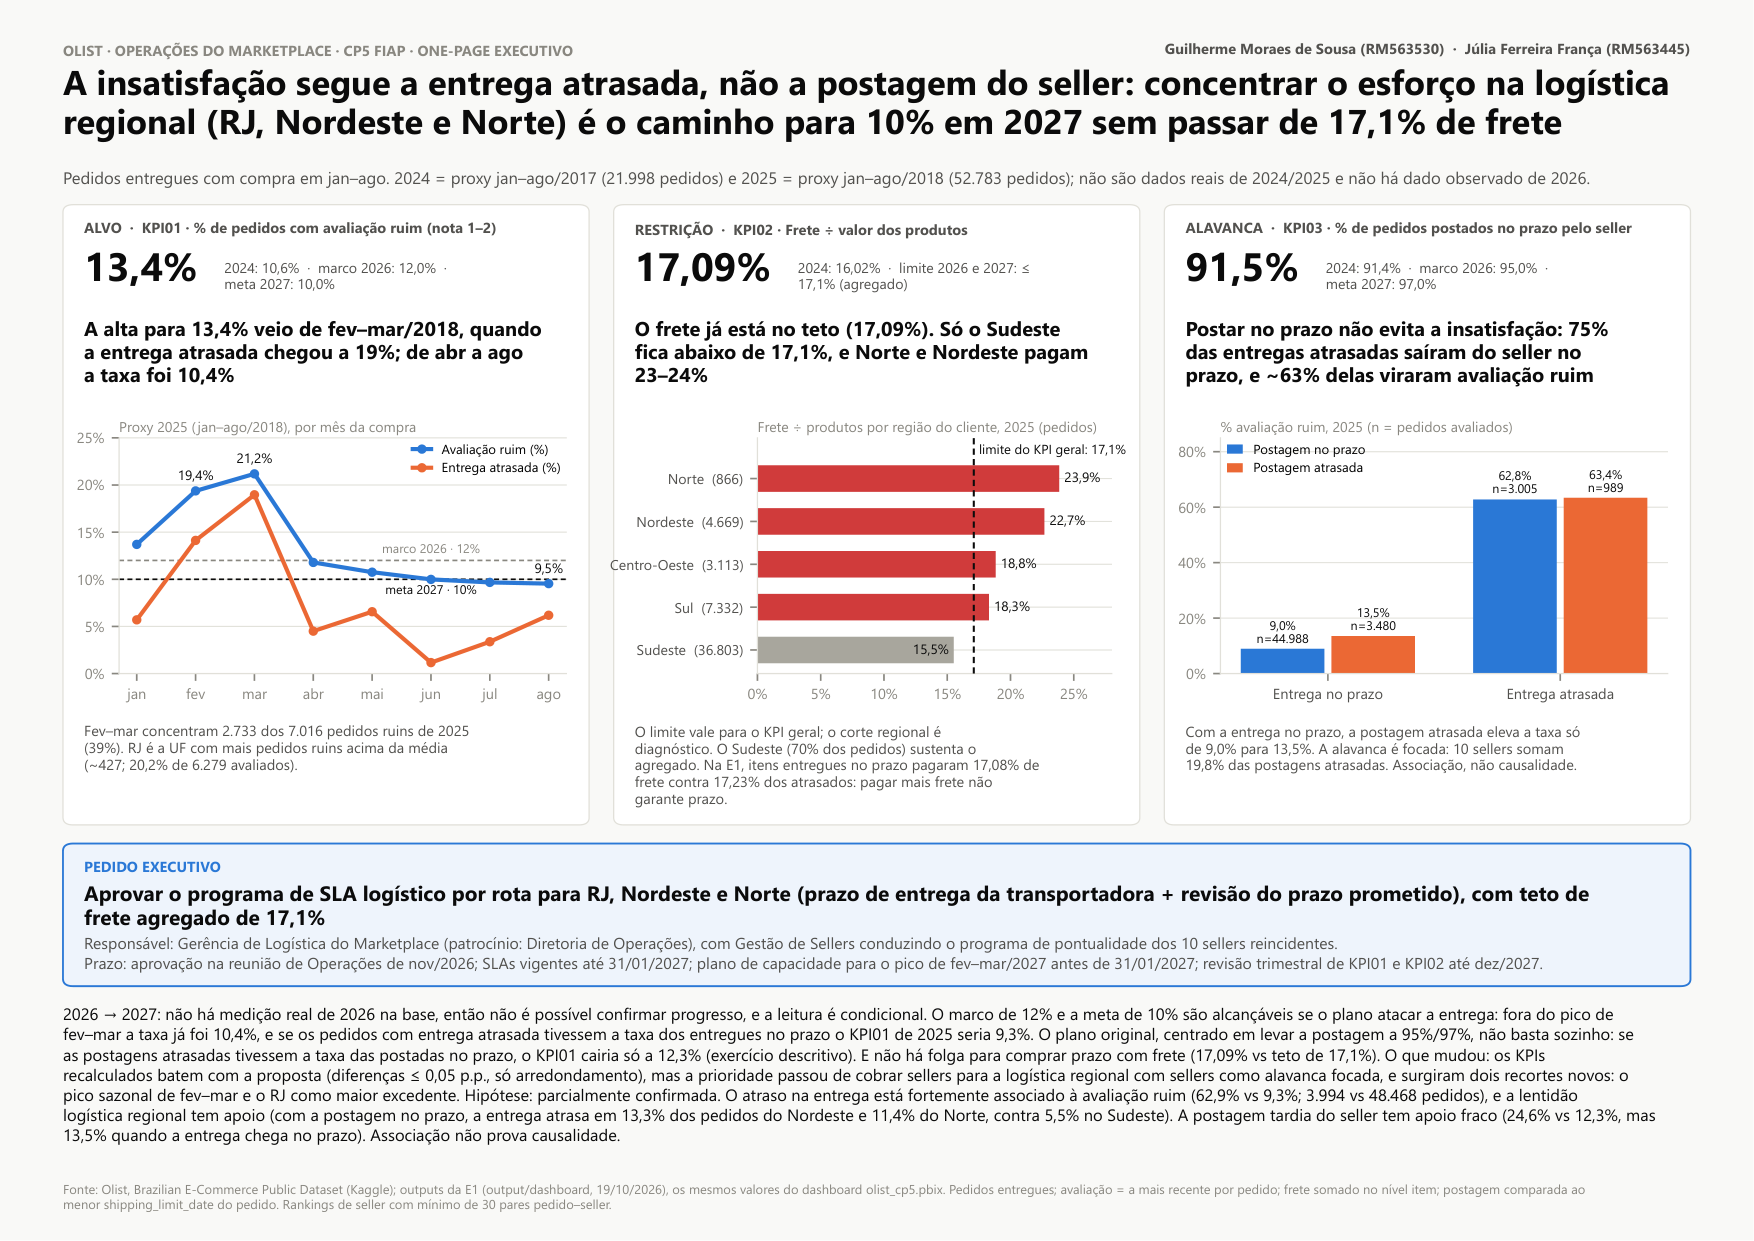

What the dashboard file says about the page in this screenshot:
{"tool":"powerbi","page":{"name":"Dashboard executivo","canvas":[1280,720],"ordinal":0},"visuals":[{"type":"textbox","box":[16,4,880,72],"z":0},{"type":"slicer","fields":{"Values":["Calendário.Período"]},"box":[908,12,186,54],"z":1000},{"type":"slicer","fields":{"Values":["Local Cliente.Região"]},"box":[1102,12,162,54],"z":2000},{"type":"textbox","box":[16,78,410,26],"z":3000},{"type":"card","fields":{"Values":["Medidas.KPI01 % Avaliações Ruins"]},"box":[16,104,118,78],"z":4000},{"type":"card","fields":{"Values":["Medidas.KPI01 Status"]},"box":[134,104,292,28],"z":5000},{"type":"card","fields":{"Values":["Medidas.KPI01 Contexto"]},"box":[134,132,292,25],"z":6000},{"type":"card","fields":{"Values":["Medidas.KPI01 Metas"]},"box":[134,157,292,25],"z":7000},{"type":"textbox","box":[435,78,410,26],"z":8000},{"type":"card","fields":{"Values":["Medidas.KPI02 % Frete sobre Produtos"]},"box":[435,104,118,78],"z":9000},{"type":"card","fields":{"Values":["Medidas.KPI02 Status"]},"box":[553,104,292,28],"z":10000},{"type":"card","fields":{"Values":["Medidas.KPI02 Contexto"]},"box":[553,132,292,25],"z":11000},{"type":"card","fields":{"Values":["Medidas.KPI02 Metas"]},"box":[553,157,292,25],"z":12000},{"type":"textbox","box":[854,78,410,26],"z":13000},{"type":"card","fields":{"Values":["Medidas.KPI03 % Postagem no Prazo"]},"box":[854,104,118,78],"z":14000},{"type":"card","fields":{"Values":["Medidas.KPI03 Status"]},"box":[972,104,292,28],"z":15000},{"type":"card","fields":{"Values":["Medidas.KPI03 Contexto"]},"box":[972,132,292,25],"z":16000},{"type":"card","fields":{"Values":["Medidas.KPI03 Metas"]},"box":[972,157,292,25],"z":17000},{"type":"lineChart","title":"G1 · A piora de 2025 concentra-se em fev–mar, junto com a entrega atrasada","fields":{"Category":["Calendário.Mês"],"Y":["Medidas.KPI01 % Avaliações Ruins","Medidas.% Entrega Atrasada"]},"box":[16,190,410,240],"z":18000},{"type":"clusteredBarChart","title":"G2 · RJ concentra o maior excedente de avaliações ruins, seguido de BA e CE (UFs com ≥ 20 pedidos ruins acima da média)","fields":{"Category":["Local Cliente.UF"],"Y":["Medidas.Pedidos Ruins acima da Média"]},"box":[435,190,410,240],"z":19000},{"type":"lineClusteredColumnComboChart","title":"G3 · Só o Sudeste fica abaixo do teto de 17,1% (linha); Norte e Nordeste têm o frete mais alto","fields":{"Category":["Local Cliente.Região"],"Y":["Medidas.KPI02 % Frete sobre Produtos"],"Y2":["Medidas.Limite Frete KPI02"]},"box":[854,190,410,240],"z":20000},{"type":"clusteredColumnChart","title":"G4 · Com entrega atrasada, ~63% avaliam mal, com ou sem postagem atrasada; a postagem atrasada sozinha pesa pouco","fields":{"Category":["Pedidos.Situação Entrega"],"Series":["Pedidos.Situação Postagem"],"Y":["Medidas.KPI01 % Avaliações Ruins"]},"box":[16,438,520,244],"z":21000},{"type":"tableEx","title":"G5 · 10 sellers somam ~20% das postagens atrasadas (mín. 30 pares pedido–seller)","fields":{"Values":["Medidas.Ranking Seller por Postagens Atrasadas","Sellers.Seller","Sellers.UF Seller","Medidas.Pares Pedido-Seller Elegíveis","Medidas.Postagens Atrasadas","Medidas.% Postagem no Prazo do Seller","Medidas.% Participação nas Postagens Atrasadas"]},"box":[545,438,719,244],"z":22000},{"type":"textbox","box":[16,684,1248,36],"z":23000}]}

Visuals, with their boxes on the page's 1280x720 design canvas (x1, y1, x2, y2). These are canvas units, not pixel positions in the 1754x1241 screenshot, which may show the page scaled, cropped or inside an application window:
textbox: 16, 4, 896, 76
slicer - Calendário.Período: 908, 12, 1094, 66
slicer - Local Cliente.Região: 1102, 12, 1264, 66
textbox: 16, 78, 426, 104
card - Medidas.KPI01 % Avaliações Ruins: 16, 104, 134, 182
card - Medidas.KPI01 Status: 134, 104, 426, 132
card - Medidas.KPI01 Contexto: 134, 132, 426, 157
card - Medidas.KPI01 Metas: 134, 157, 426, 182
textbox: 435, 78, 845, 104
card - Medidas.KPI02 % Frete sobre Produtos: 435, 104, 553, 182
card - Medidas.KPI02 Status: 553, 104, 845, 132
card - Medidas.KPI02 Contexto: 553, 132, 845, 157
card - Medidas.KPI02 Metas: 553, 157, 845, 182
textbox: 854, 78, 1264, 104
card - Medidas.KPI03 % Postagem no Prazo: 854, 104, 972, 182
card - Medidas.KPI03 Status: 972, 104, 1264, 132
card - Medidas.KPI03 Contexto: 972, 132, 1264, 157
card - Medidas.KPI03 Metas: 972, 157, 1264, 182
"G1 · A piora de 2025 concentra-se em fev–mar, junto com a entrega atrasada" lineChart: 16, 190, 426, 430
"G2 · RJ concentra o maior excedente de avaliações ruins, seguido de BA e CE (UFs com ≥ 20 pedidos ruins acima da média)" clusteredBarChart: 435, 190, 845, 430
"G3 · Só o Sudeste fica abaixo do teto de 17,1% (linha); Norte e Nordeste têm o frete mais alto" lineClusteredColumnComboChart: 854, 190, 1264, 430
"G4 · Com entrega atrasada, ~63% avaliam mal, com ou sem postagem atrasada; a postagem atrasada sozinha pesa pouco" clusteredColumnChart: 16, 438, 536, 682
"G5 · 10 sellers somam ~20% das postagens atrasadas (mín. 30 pares pedido–seller)" tableEx: 545, 438, 1264, 682
textbox: 16, 684, 1264, 720
